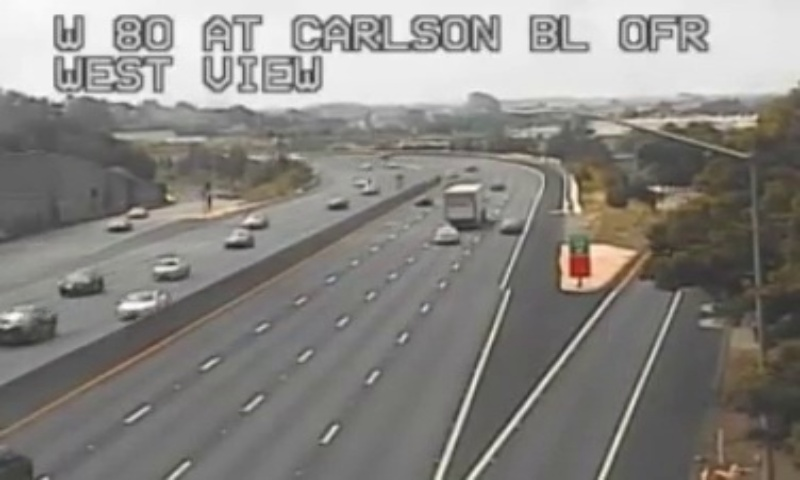car: (433, 226, 459, 244)
truck: (442, 184, 485, 225)
